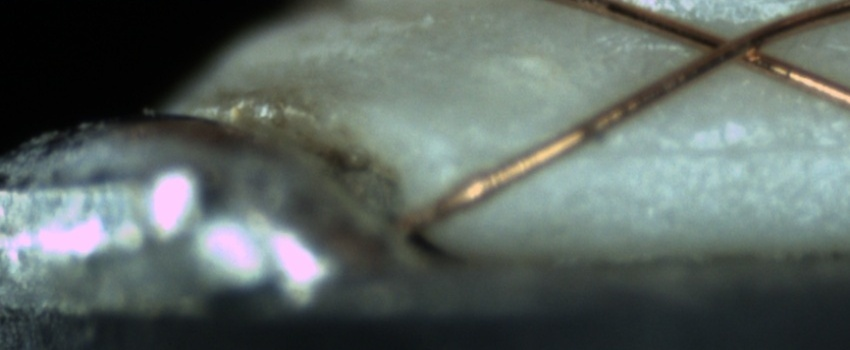CL: (688, 16, 786, 75)
DL: (567, 119, 849, 179)
